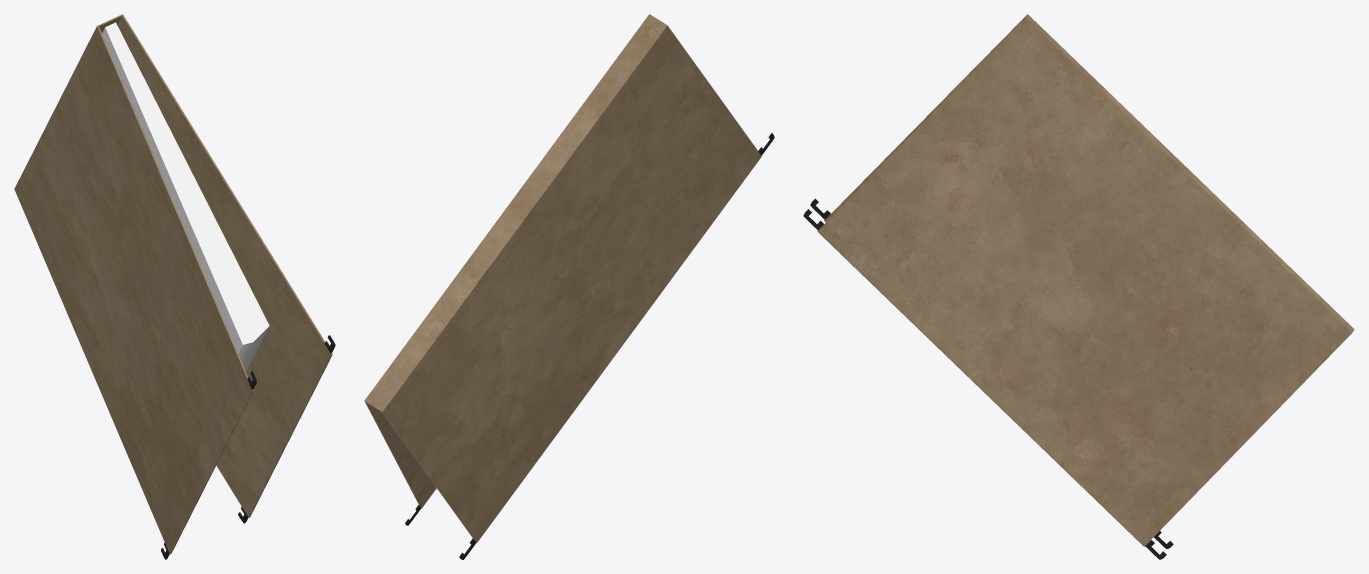
Rendered from Document.fbx.
The picture shows the model from 3 angles, left to right: view 1: azimuth 30°, elevation 25°; view 2: azimuth 150°, elevation 25°; view 3: azimuth 270°, elevation 25°; orthographic projection. The views are drawn at different scales.
Visible parts, largest first — view 1: document_holder, paper2; view 2: document_holder; view 3: document_holder.
Boxes of the visible parts, x1,y1,x2,y2 form: document_holder: (14, 14, 335, 559); paper2: (102, 22, 269, 371); document_holder: (364, 14, 774, 559); document_holder: (803, 14, 1354, 559).
Size of the model in its own units: 51.47 by 134 by 140.
2 materials, 1 textured.
